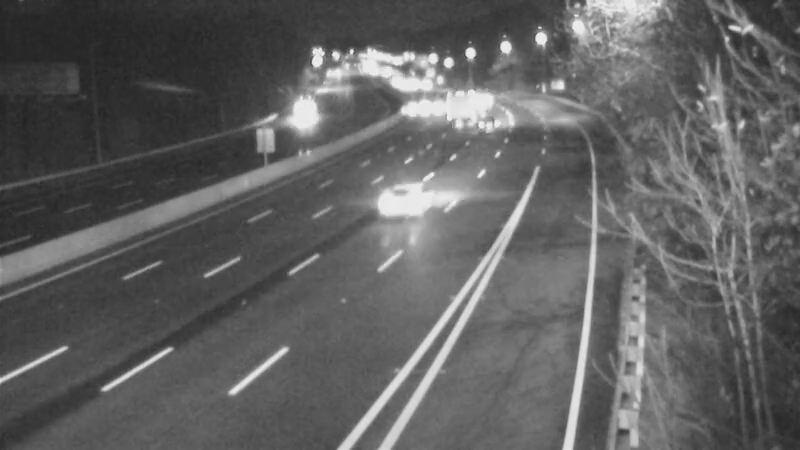vehicle: (364, 166, 444, 246), (460, 74, 510, 124), (400, 76, 450, 126), (434, 75, 484, 125), (463, 105, 513, 155), (285, 87, 335, 137)
